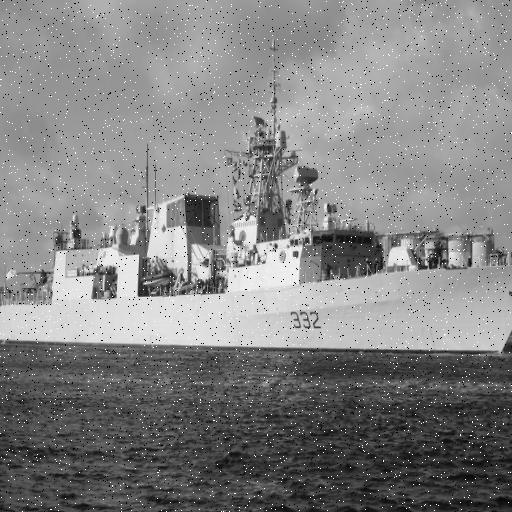Fragata: (1, 36, 512, 366)
